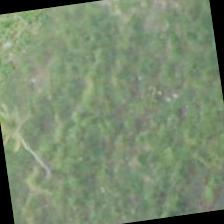Kelapa_Sawit: (0, 79, 66, 177)
